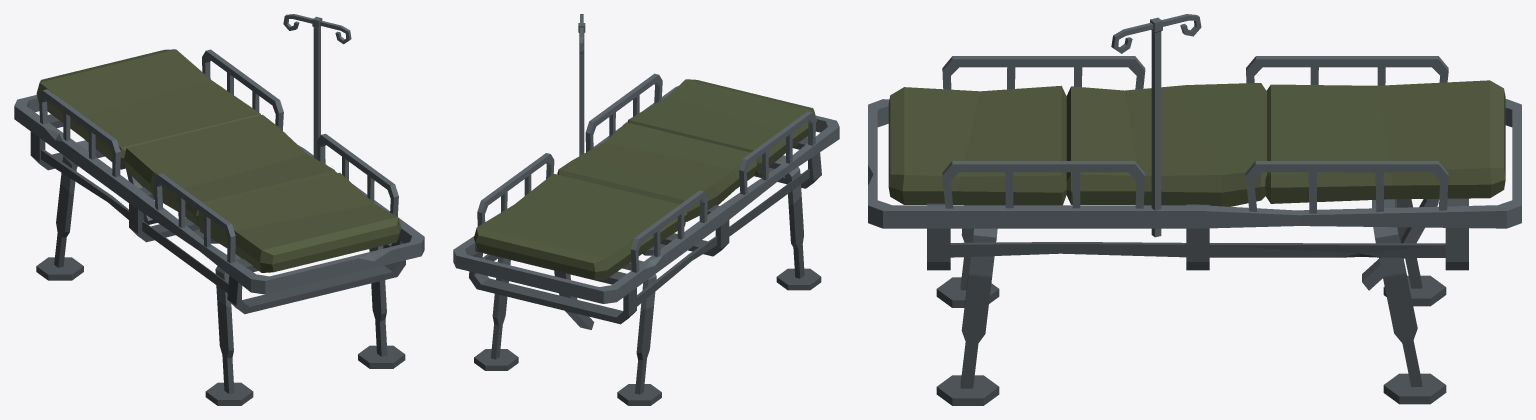
Rendered from SM_Prop_Bed_Medical_01.fbx.
The picture shows the model from 3 angles, left to right: view 1: azimuth 30°, elevation 25°; view 2: azimuth 150°, elevation 25°; view 3: azimuth 270°, elevation 25°; orthographic projection. The views are drawn at different scales.
Visible parts, largest first — view 1: SM_Prop_Bed_Medical_01, SM_Prop_Bed_Medical_Adjust_01; view 2: SM_Prop_Bed_Medical_01, SM_Prop_Bed_Medical_Adjust_01; view 3: SM_Prop_Bed_Medical_01, SM_Prop_Bed_Medical_Adjust_01.
Boxes of the visible parts, x1,y1,x2,y2 form: SM_Prop_Bed_Medical_01: (14,14,424,405); SM_Prop_Bed_Medical_Adjust_01: (36,49,260,224); SM_Prop_Bed_Medical_01: (453,14,839,405); SM_Prop_Bed_Medical_Adjust_01: (474,173,687,329); SM_Prop_Bed_Medical_01: (868,14,1521,405); SM_Prop_Bed_Medical_Adjust_01: (1265,80,1505,290).
Bounding box in the file's own units: 106 × 149 × 233.
